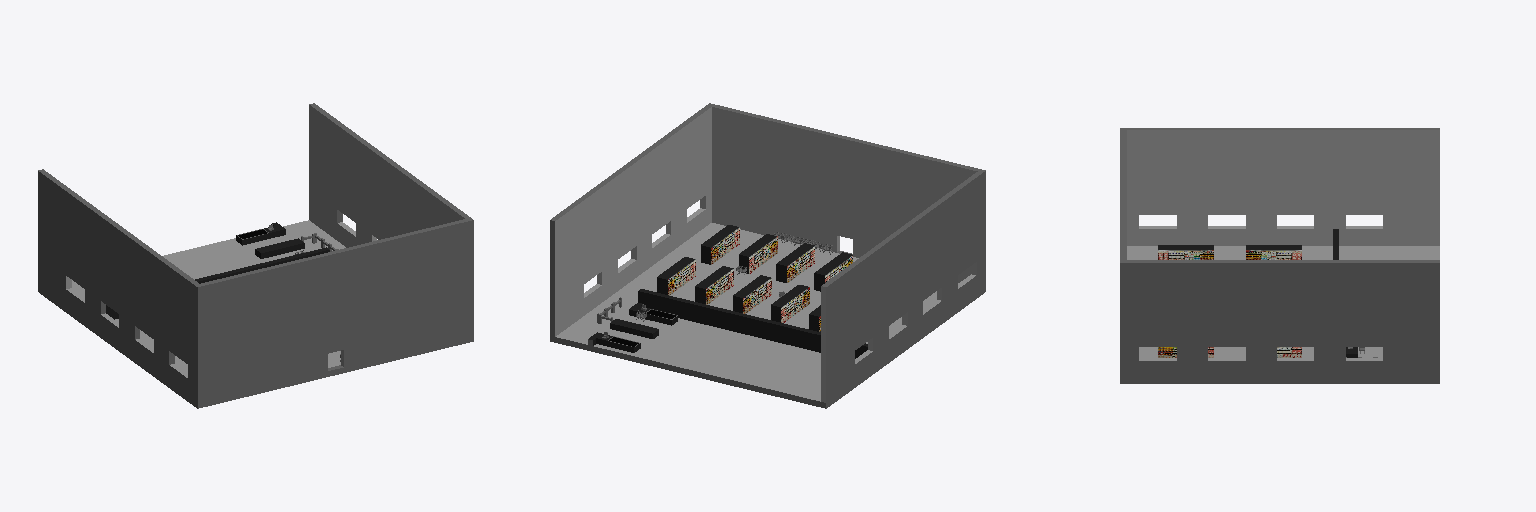
The picture shows the model from 3 angles: view 1: azimuth 30°, elevation 25°; view 2: azimuth 150°, elevation 25°; view 3: azimuth 270°, elevation 25°; orthographic projection.
Parts seen in each view (by area): view 1: area_Cube; view 2: area_Cube; view 3: area_Cube.
Part boxes in pixels (x1,y1,x2,y2): area_Cube: (38,103,473,408); area_Cube: (550,103,985,408); area_Cube: (1120,128,1439,383).
Size of the model in its own units: 50 by 21 by 50.
Materials: 5 (1 with a texture image).